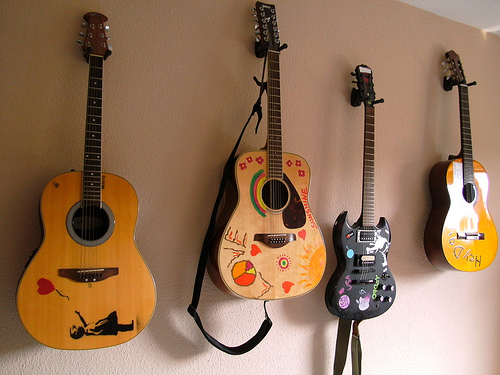guitar: (16, 9, 159, 353), (205, 1, 328, 304), (428, 49, 499, 273)
